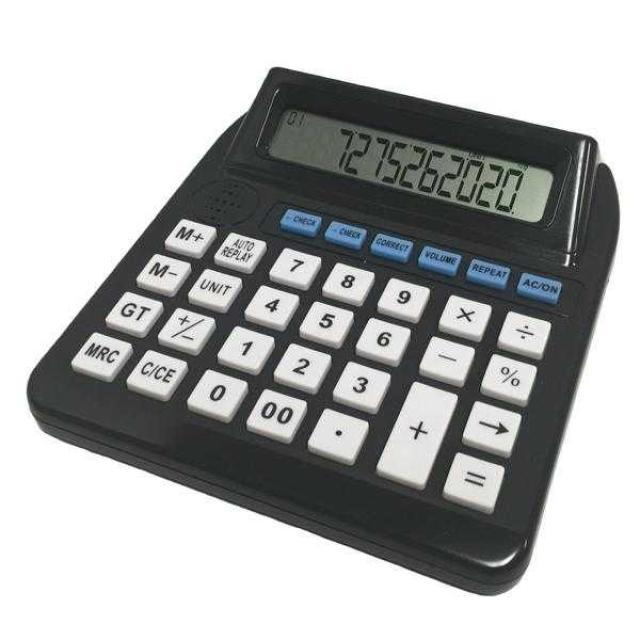Calculator: (27, 67, 619, 593)
